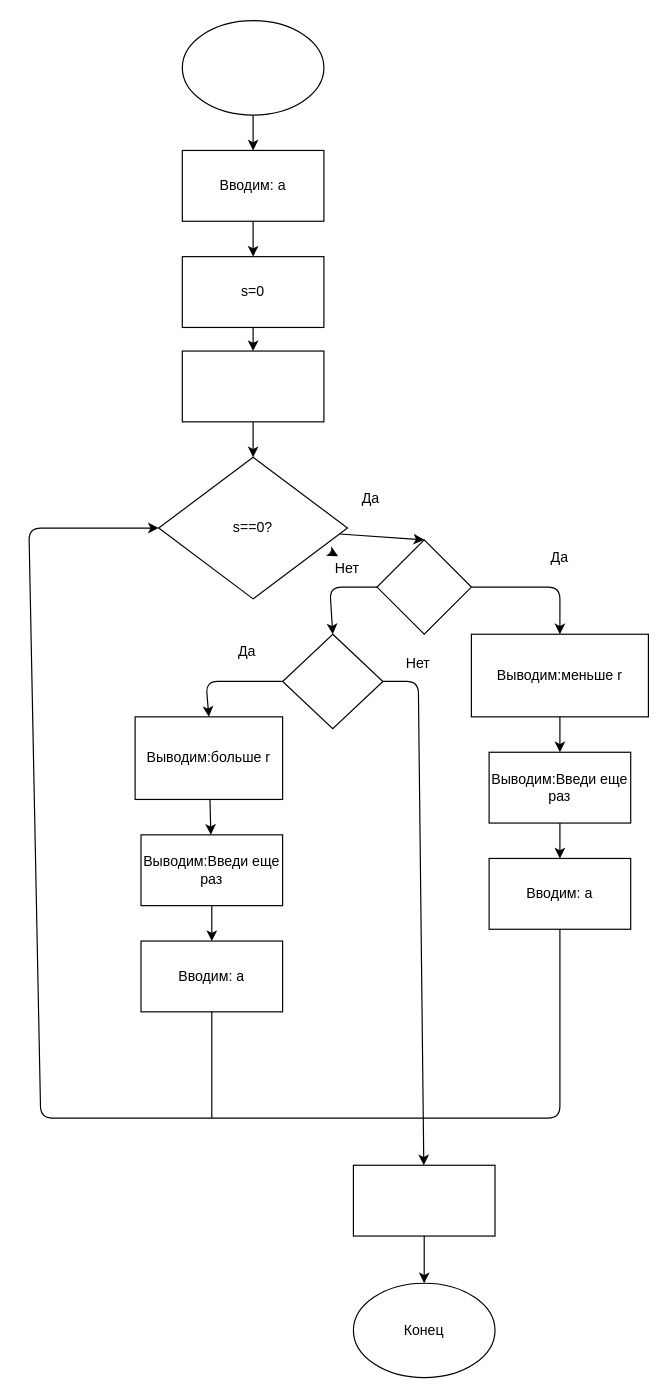
Image size: 669x1398. Some labels were removed from this diagram. The centre of each missing label's shape, as x and y in pixels:
"a<r?" belongs at (423,586).
"a>r" belongs at (332,681).
"r=рандомное число от 1 до 100" belongs at (252,386).
"Вводим: Урааа угадал" belongs at (423,1200).
"Начало" belongs at (252,67).
